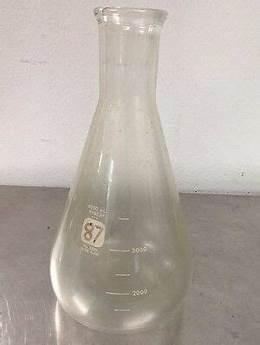Titrarion: (48, 12, 192, 338)
